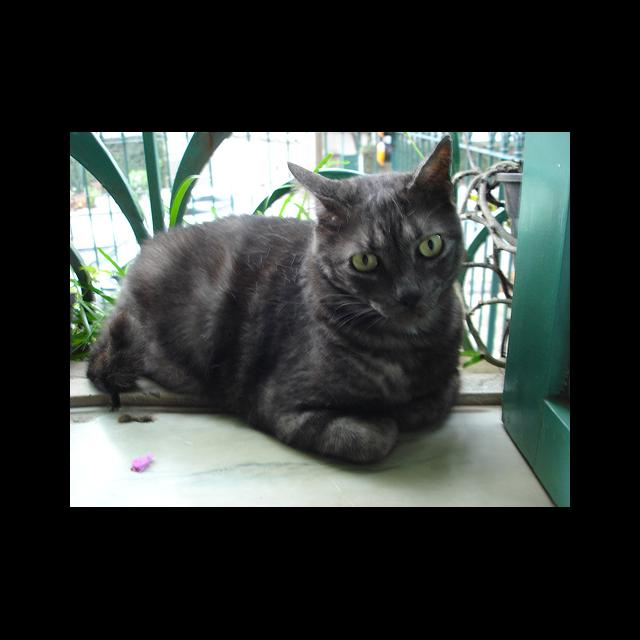animals: (288, 134, 452, 306)
